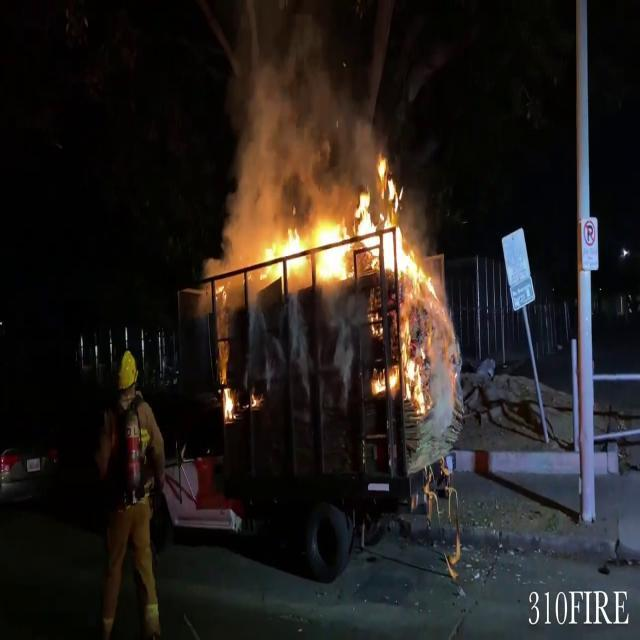Fire: (258, 162, 432, 298), (368, 163, 434, 413)
Smoke: (211, 3, 363, 208)
